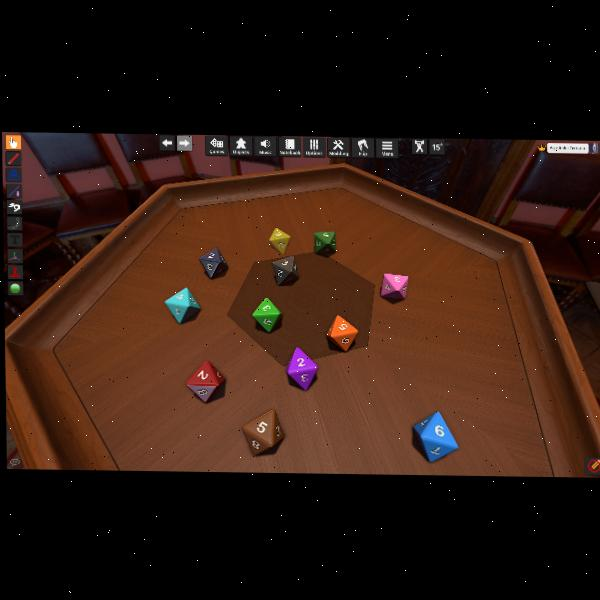d8: (414, 410, 459, 461), (242, 408, 284, 456), (185, 358, 226, 402), (166, 286, 201, 323), (286, 348, 317, 389), (327, 314, 357, 352), (252, 297, 281, 333), (198, 247, 228, 279), (273, 254, 299, 284), (380, 273, 406, 300), (269, 227, 290, 255), (314, 230, 335, 254)
